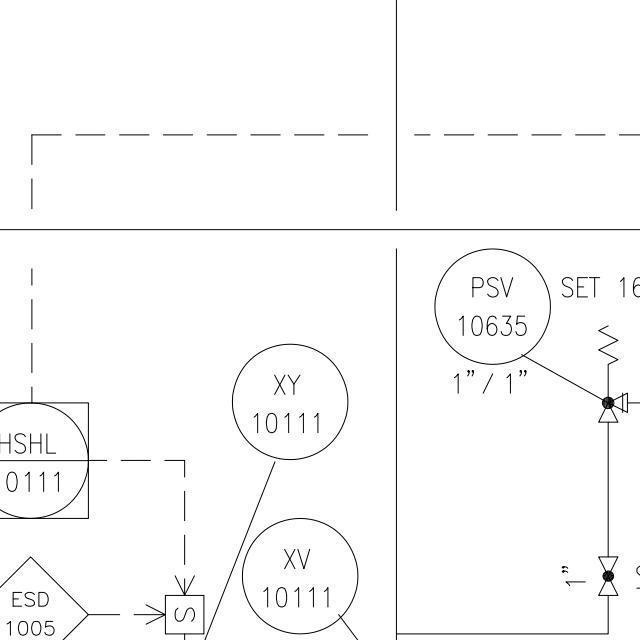BV2: (593, 549, 623, 601)
RPV: (593, 318, 633, 430)
